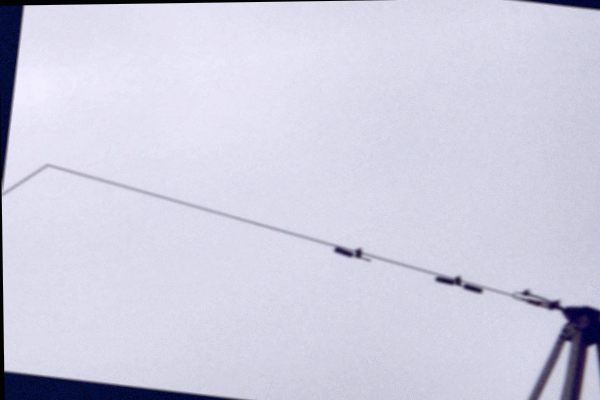damper: (432, 273, 484, 293)
damper_defect: (332, 246, 373, 263)
